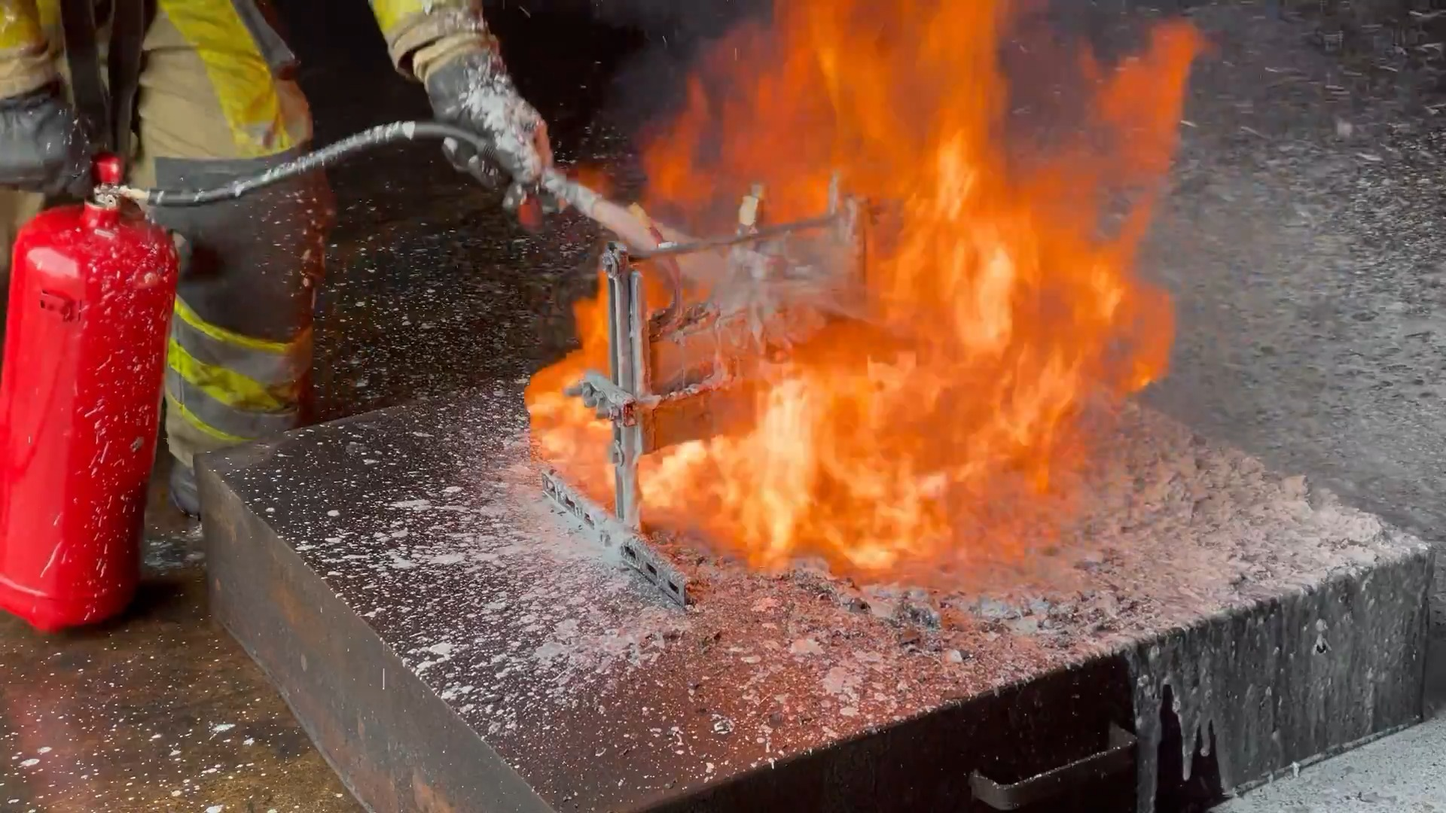fire: (520, 0, 1215, 595)
